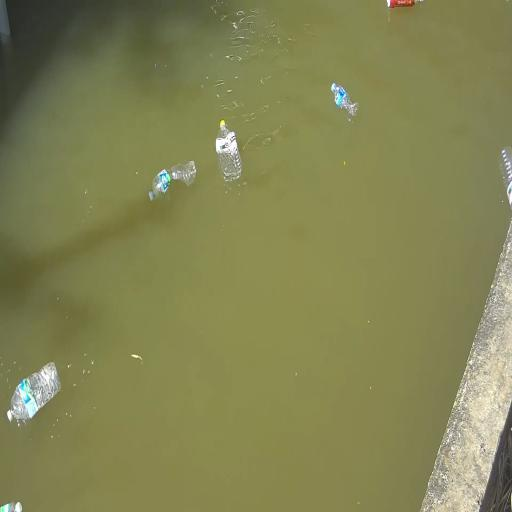plastic: (0, 358, 63, 430), (145, 153, 200, 206), (211, 116, 247, 192), (326, 80, 365, 124), (491, 148, 512, 218), (378, 0, 428, 18), (0, 494, 30, 512)
